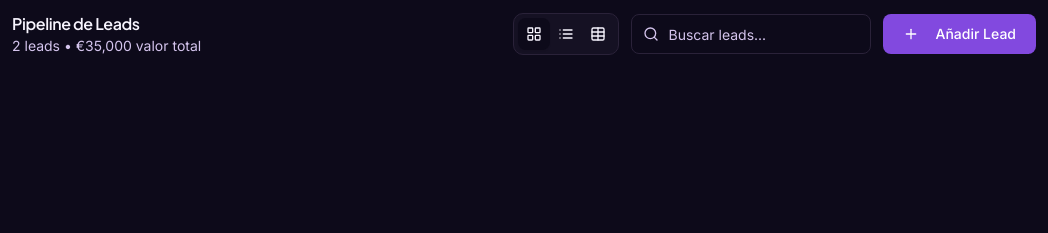
it: CRMPipeline › switches to list view
The width and height of the screenshot is (1048, 233).
Click the button titled "Vista Lista": (566, 34) x1=550 y1=18 x2=582 y2=50
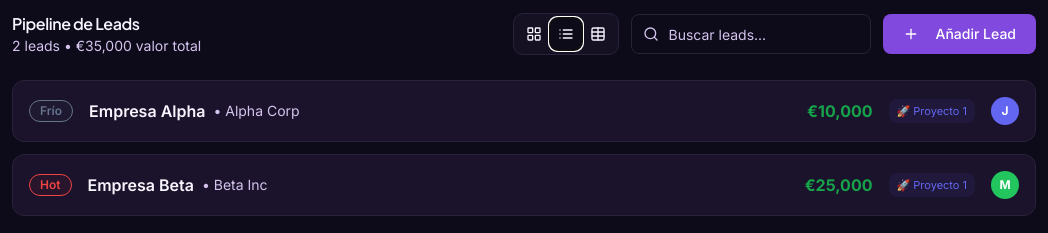
Expected: the text "Empresa Alpha" is shown, x1=89 y1=99 x2=206 y2=123
